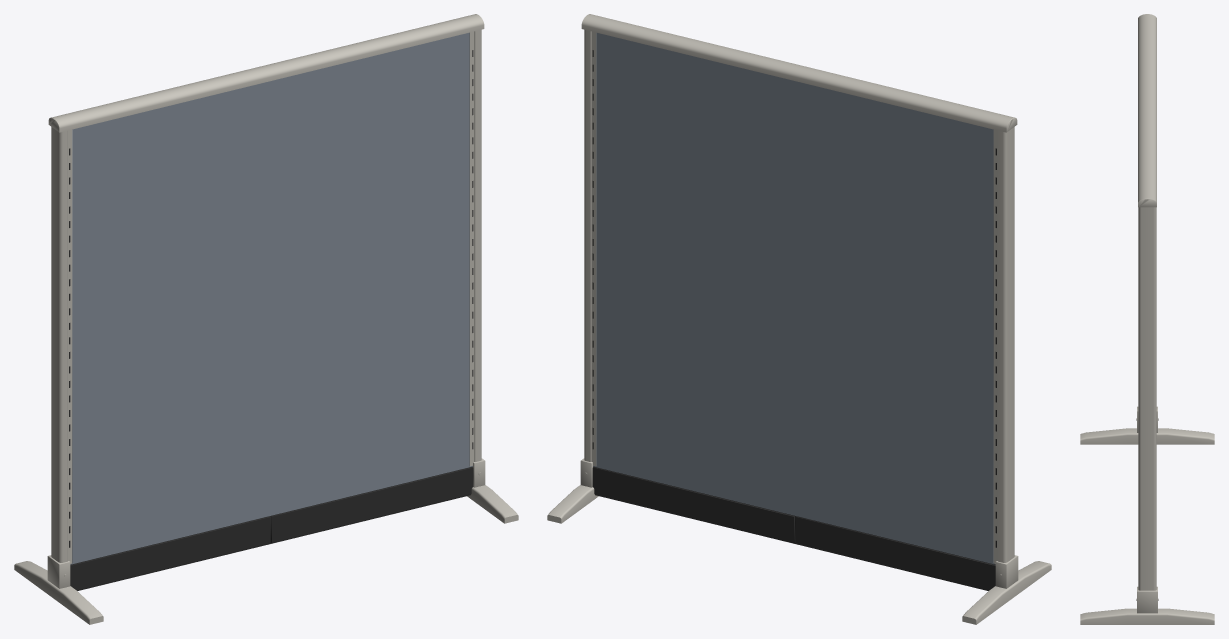
The model's file is Kit_PanelFreestanding_1650.fbx.
3 renders of one model, left to right at view 1: azimuth 30°, elevation 25°; view 2: azimuth 150°, elevation 25°; view 3: azimuth 270°, elevation 25°, orthographic. The views are drawn at different scales.
Parts seen in each view (by area): view 1: Kit_PanelFreestanding_1650_LOD0; view 2: Kit_PanelFreestanding_1650_LOD0; view 3: Kit_PanelFreestanding_1650_LOD0.
Boxes of the visible parts, x1,y1,x2,y2 form: Kit_PanelFreestanding_1650_LOD0: (14, 14, 518, 624); Kit_PanelFreestanding_1650_LOD0: (547, 14, 1051, 624); Kit_PanelFreestanding_1650_LOD0: (1080, 14, 1214, 624).
Size of what is drawn, in the model's own units: 1.54 by 1.65 by 0.47.
